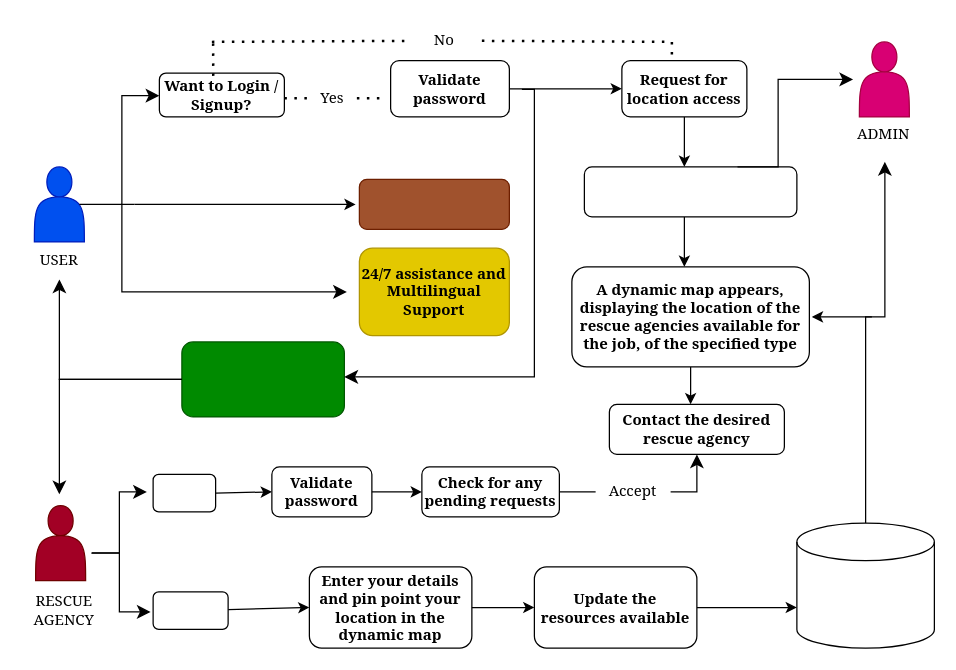
Some shapes in this 956 by 670 pixel diagram are drawn without their labels. The box of each missing label's shape, as (x1, y1, x2, y2) in pixels:
Chatbot: (358, 178, 509, 229)
Login: (152, 473, 216, 512)
Push Notifications on Emergency Alerts: (181, 341, 344, 417)
Register: (152, 591, 228, 629)
Specify the type of assistance required: (583, 166, 797, 217)
